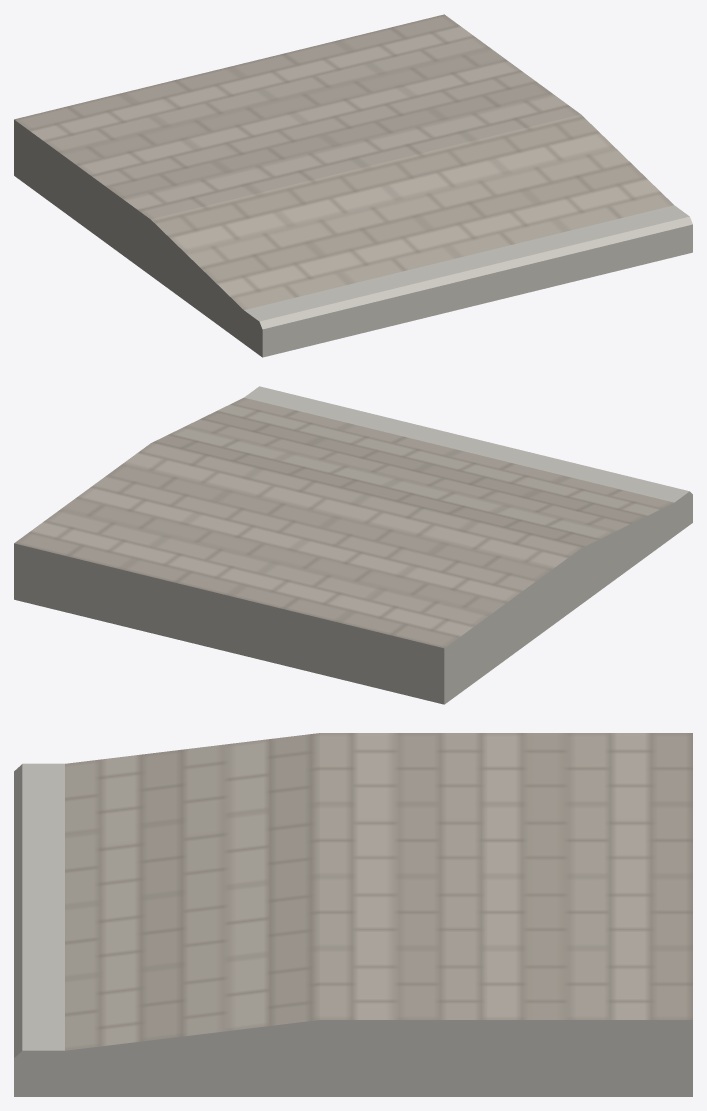
The model's file is SM_Ground_SidewalkDrive_200x200_01.fbx.
The picture shows the model from 3 angles, top to bottom: view 1: azimuth 30°, elevation 25°; view 2: azimuth 150°, elevation 25°; view 3: azimuth 270°, elevation 25°; orthographic projection. The views are drawn at different scales.
Visible parts, largest first — view 1: SM_Ground_SidewalkDrive_200x200_01; view 2: SM_Ground_SidewalkDrive_200x200_01; view 3: SM_Ground_SidewalkDrive_200x200_01.
Boxes of the visible parts, left/top/right/bottom form: SM_Ground_SidewalkDrive_200x200_01: left=14, top=14, right=692, bottom=357; SM_Ground_SidewalkDrive_200x200_01: left=14, top=386, right=692, bottom=704; SM_Ground_SidewalkDrive_200x200_01: left=14, top=733, right=692, bottom=1096.
Size of the model in its own units: 2 by 0.25 by 2.
1 material, 1 textured.
